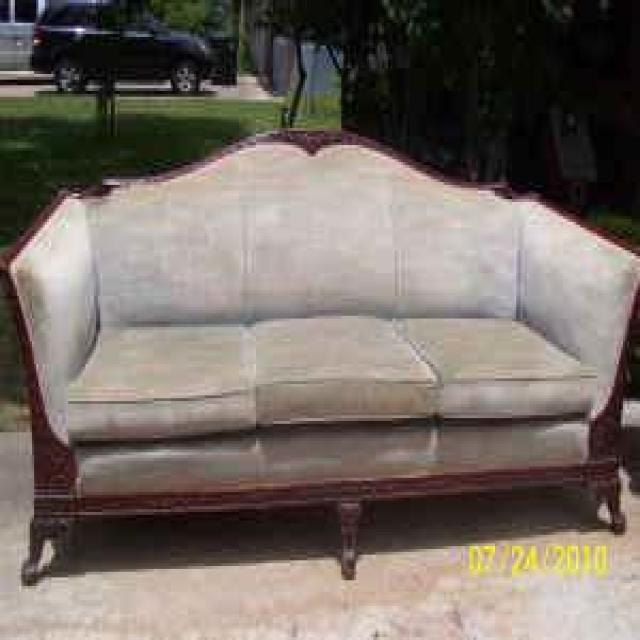sofa: (2, 124, 640, 583)
